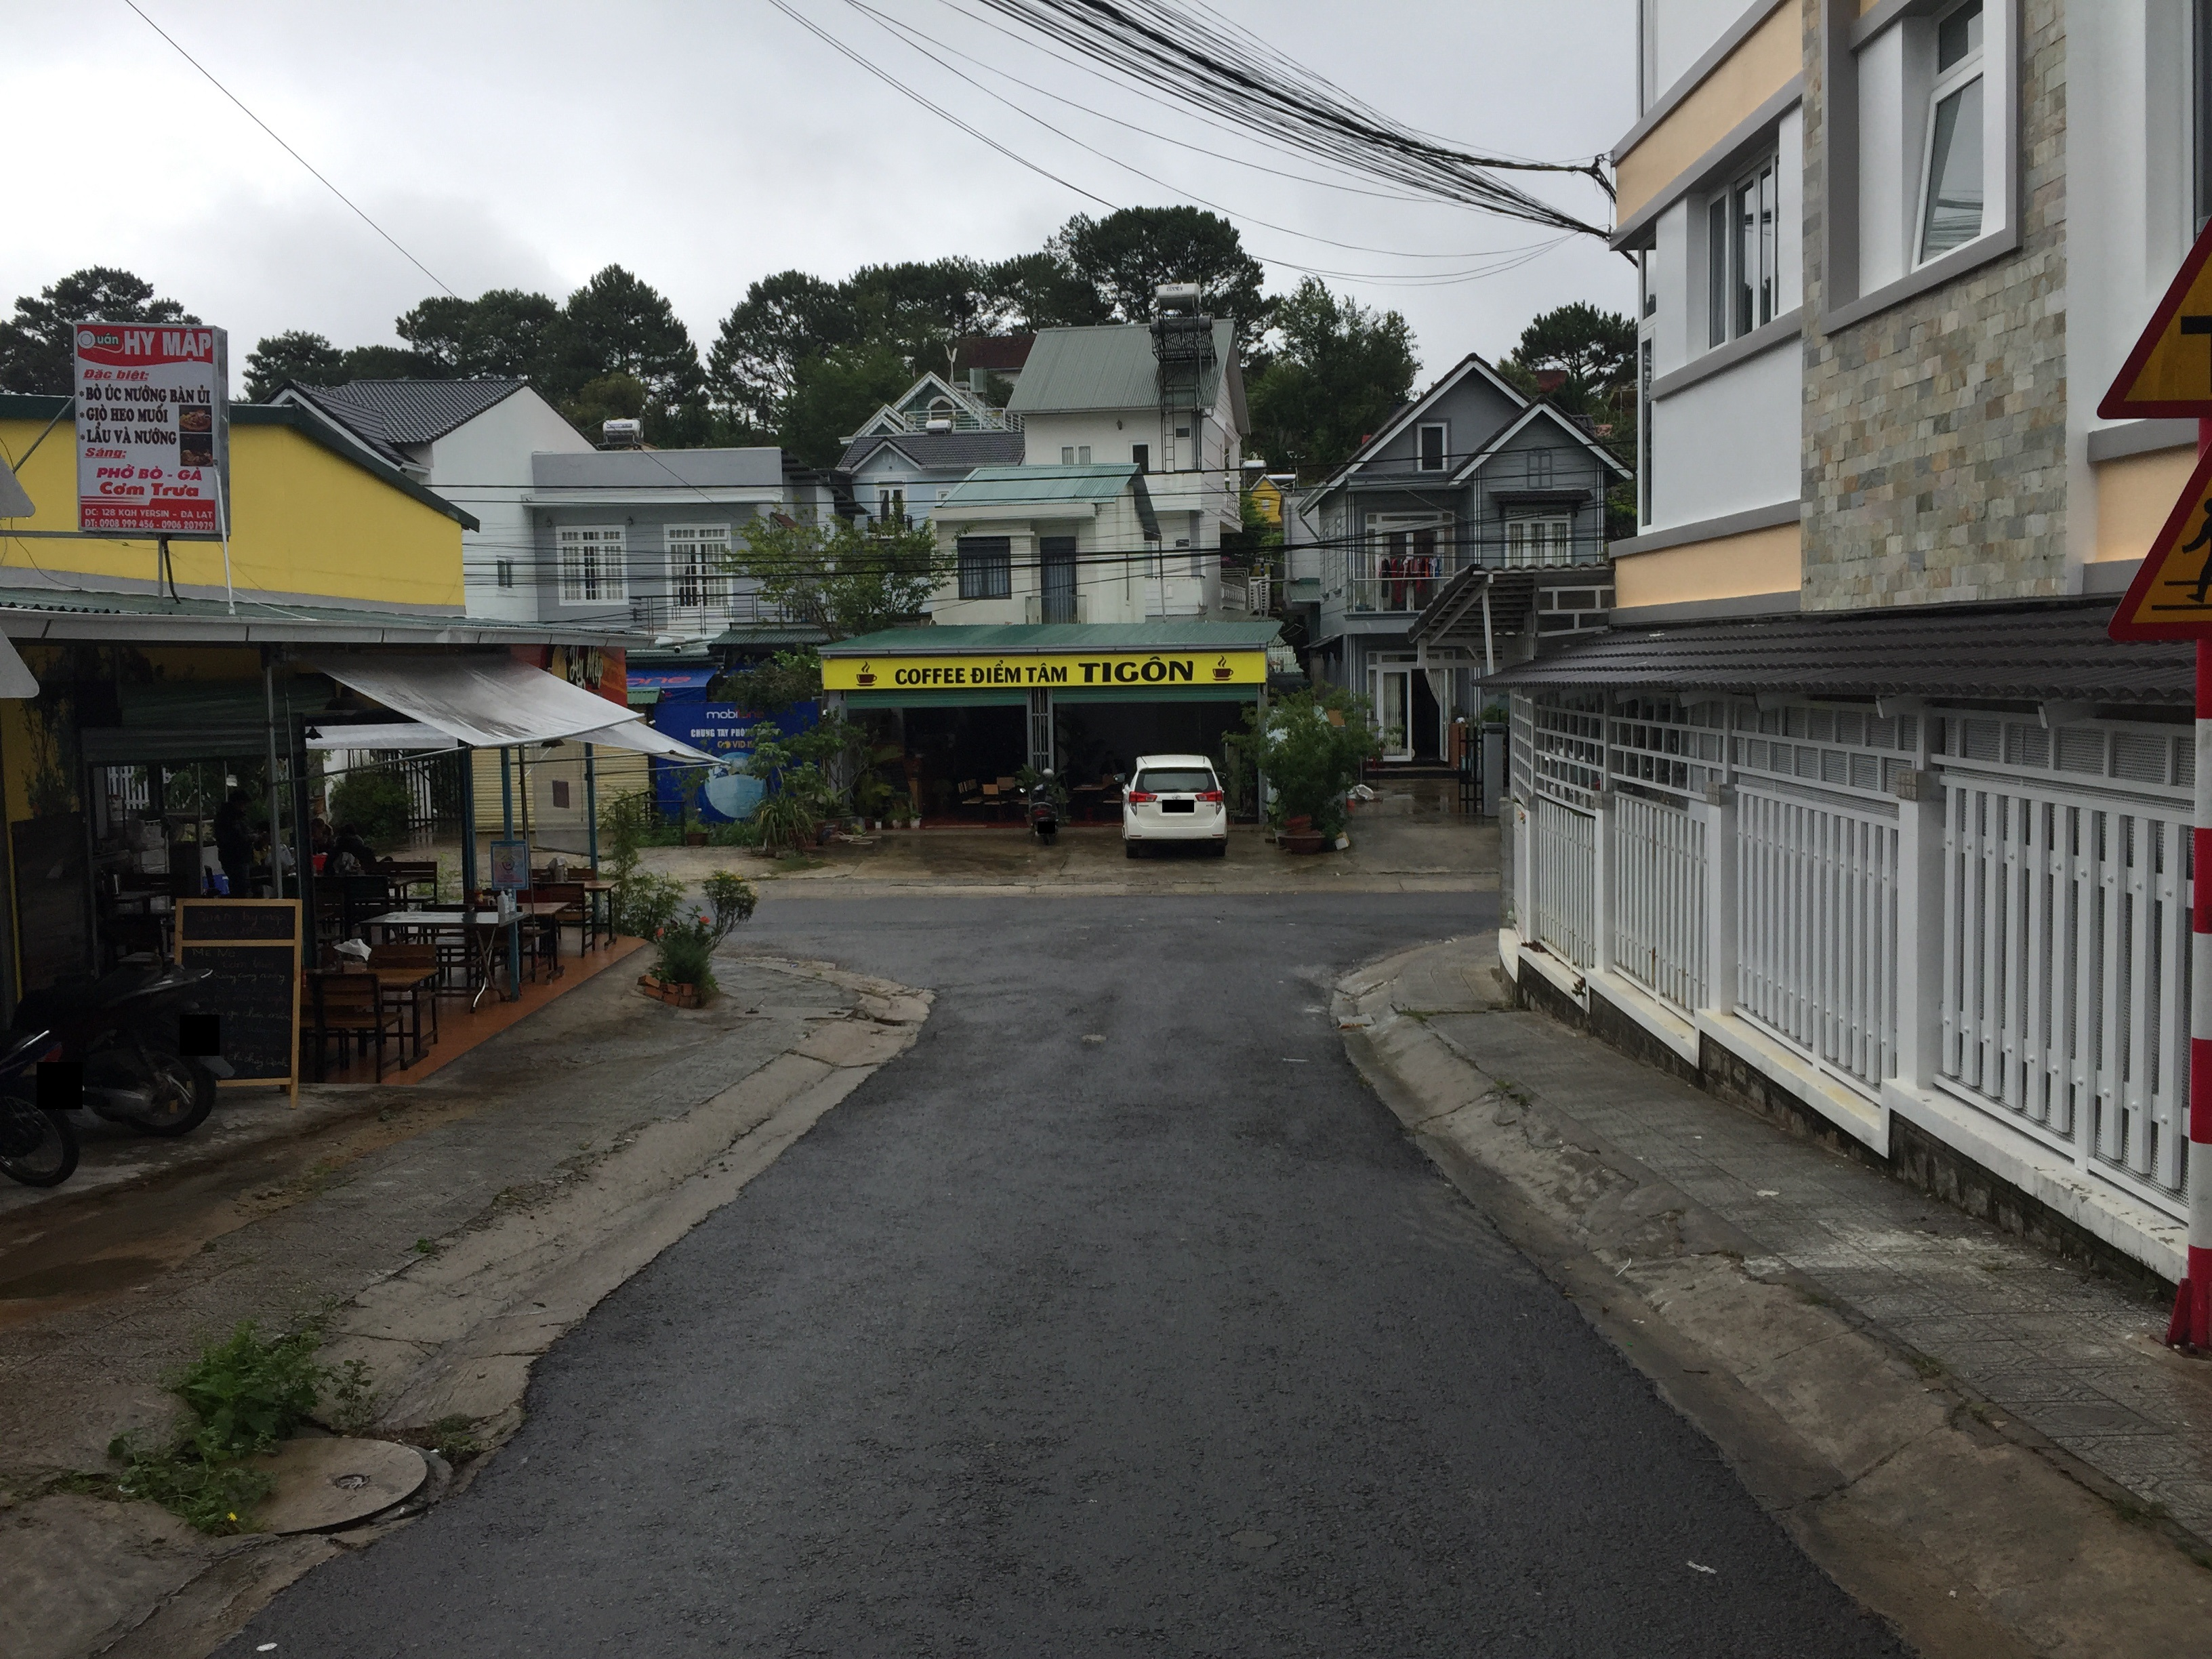hole: (399, 1408, 512, 1497), (1082, 1032, 1108, 1040)
